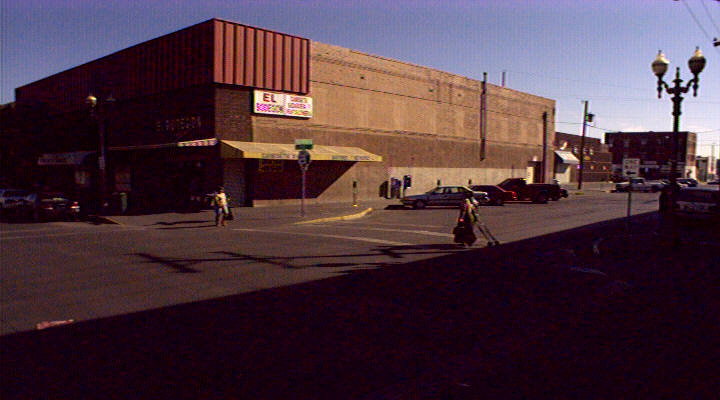Ramp: (107, 212, 324, 231)
